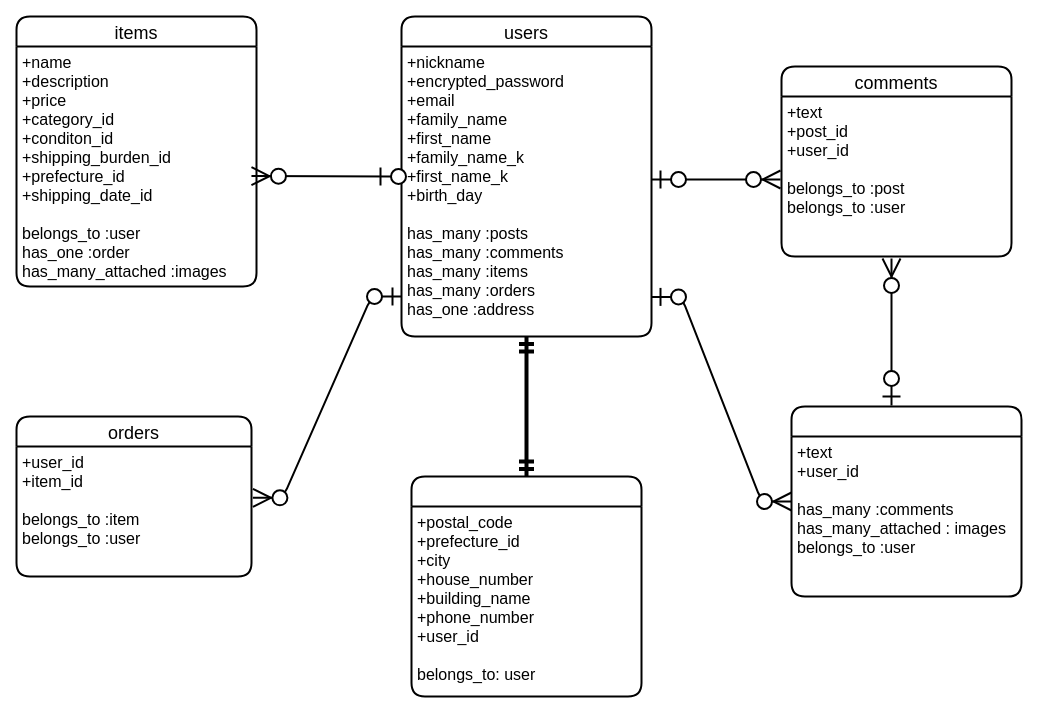
The diagram is 1038 pixels wide and 713 high, and some of its shapes have lost their labels. The shapes that lost their labels are listed below. From the top down, each one's box as (x1, y1, x2, y2) in pixels, then its label:
(790, 405, 1022, 597): posts
(410, 475, 642, 697): addresses
